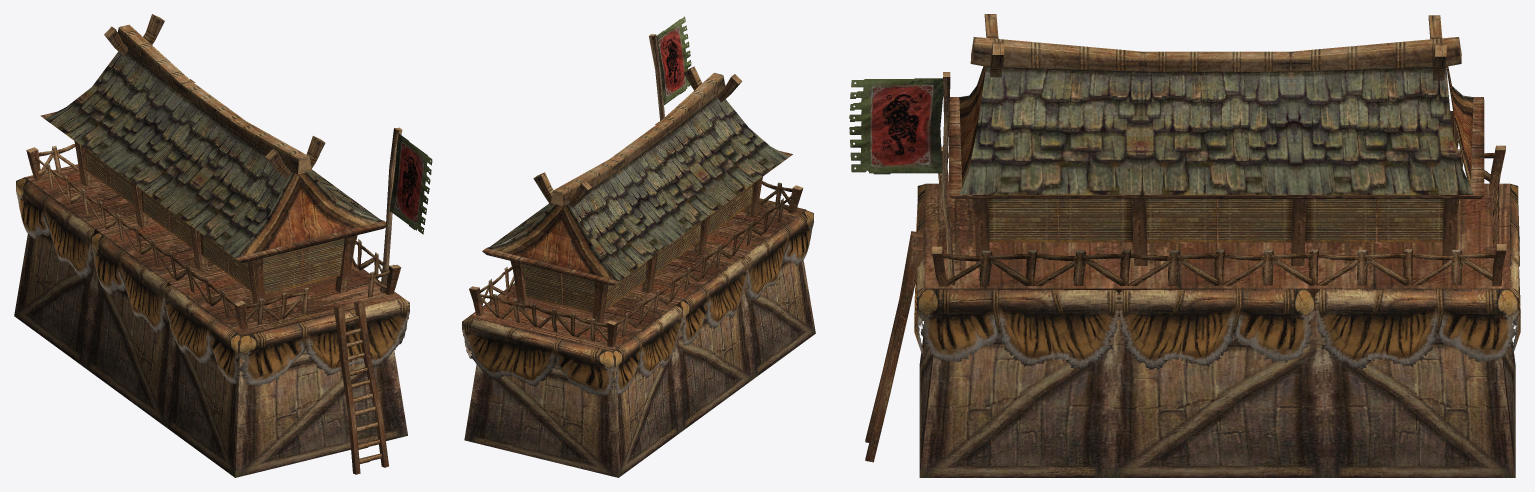
The model's file is cj_thiefvill_house_02_01.glb.
3 renders of one model, left to right at view 1: azimuth 30°, elevation 25°; view 2: azimuth 150°, elevation 25°; view 3: azimuth 270°, elevation 25°, orthographic. The views are drawn at different scales.
Parts seen in each view (by area): view 1: cj_thiefvill_house_02_05, cj_thiefvill_house_02_04, cj_thiefvill_house_02_02, cj_thiefvill_house_02_03; view 2: cj_thiefvill_house_02_05, cj_thiefvill_house_02_04, cj_thiefvill_house_02_02, cj_thiefvill_house_02_03; view 3: cj_thiefvill_house_02_05, cj_thiefvill_house_02_04, cj_thiefvill_house_02_03, cj_thiefvill_house_02_02.
Boxes of the visible parts, bbox=[...] form: cj_thiefvill_house_02_05: bbox=[14, 14, 407, 477]; cj_thiefvill_house_02_04: bbox=[16, 177, 409, 386]; cj_thiefvill_house_02_02: bbox=[34, 133, 432, 463]; cj_thiefvill_house_02_03: bbox=[85, 149, 344, 293]; cj_thiefvill_house_02_05: bbox=[464, 34, 815, 477]; cj_thiefvill_house_02_04: bbox=[462, 210, 813, 396]; cj_thiefvill_house_02_02: bbox=[479, 16, 797, 341]; cj_thiefvill_house_02_03: bbox=[522, 183, 753, 312]; cj_thiefvill_house_02_05: bbox=[865, 14, 1515, 477]; cj_thiefvill_house_02_04: bbox=[914, 183, 1520, 369]; cj_thiefvill_house_02_03: bbox=[987, 118, 1454, 242]; cj_thiefvill_house_02_02: bbox=[849, 78, 1499, 286].
Bounding box in the file's own units: 12.68 × 21.2 × 31.36.
Materials: 4 (4 with a texture image).
